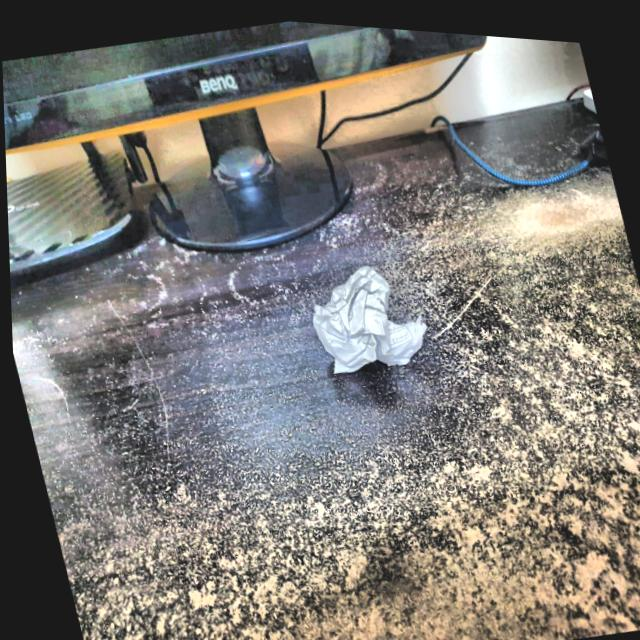Paper: (303, 243, 442, 390)
